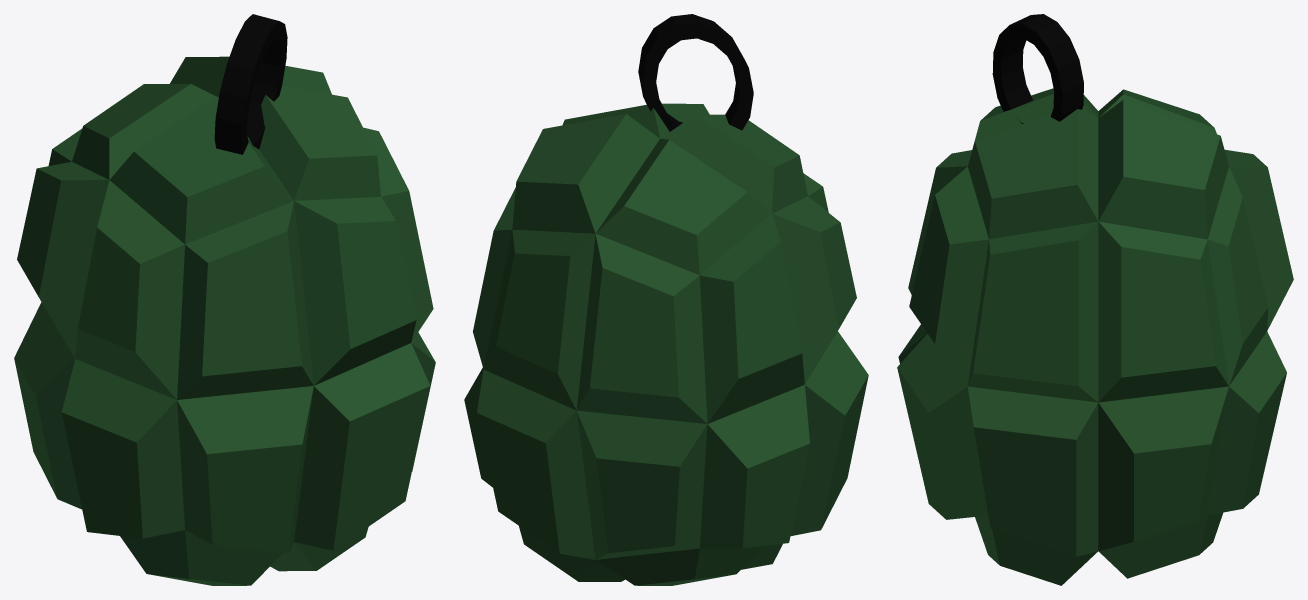
File: grenade.fbx
3 views of the same model, side by side, from view 1: azimuth 30°, elevation 25°; view 2: azimuth 150°, elevation 25°; view 3: azimuth 270°, elevation 25° (orthographic). The views are drawn at different scales.
Parts seen in each view (by area): view 1: grenade; view 2: grenade; view 3: grenade.
Boxes of the visible parts, bbox=[...] form: grenade: bbox=[14, 14, 435, 585]; grenade: bbox=[464, 14, 868, 585]; grenade: bbox=[897, 14, 1293, 585].
Bounding box in the file's own units: 0.3048 × 0.4704 × 0.3088.
